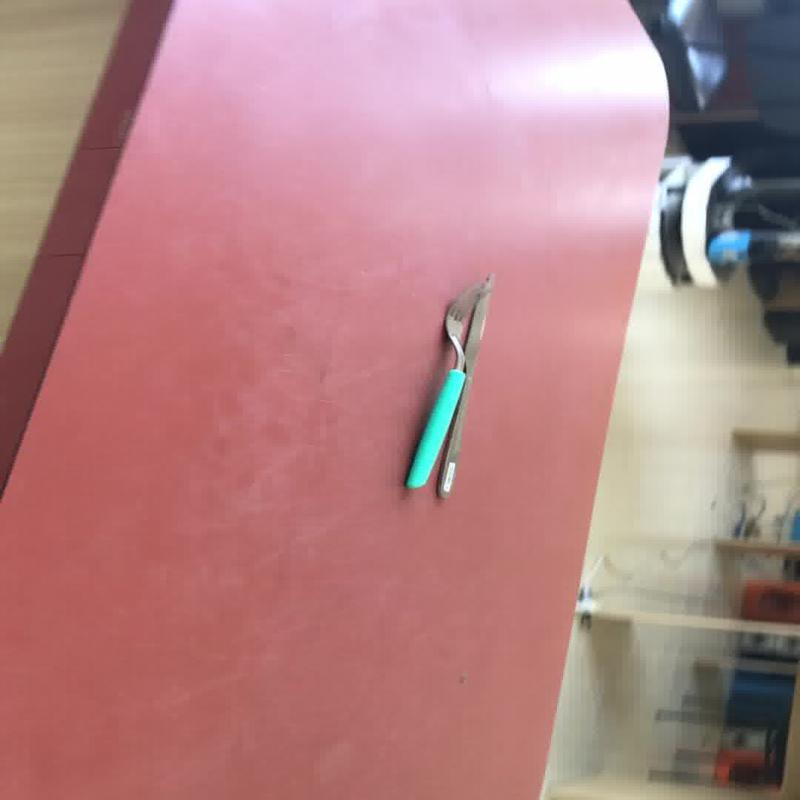fork: (434, 272, 493, 499)
knife: (401, 271, 495, 499)
